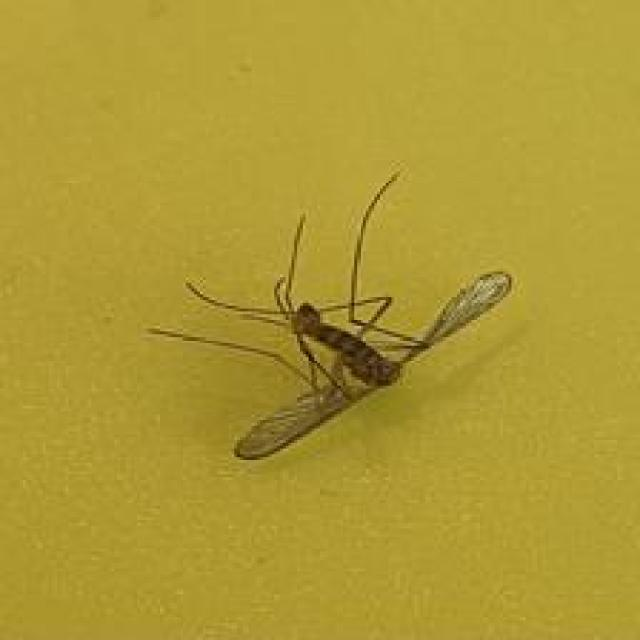Culex: (144, 168, 513, 463)
